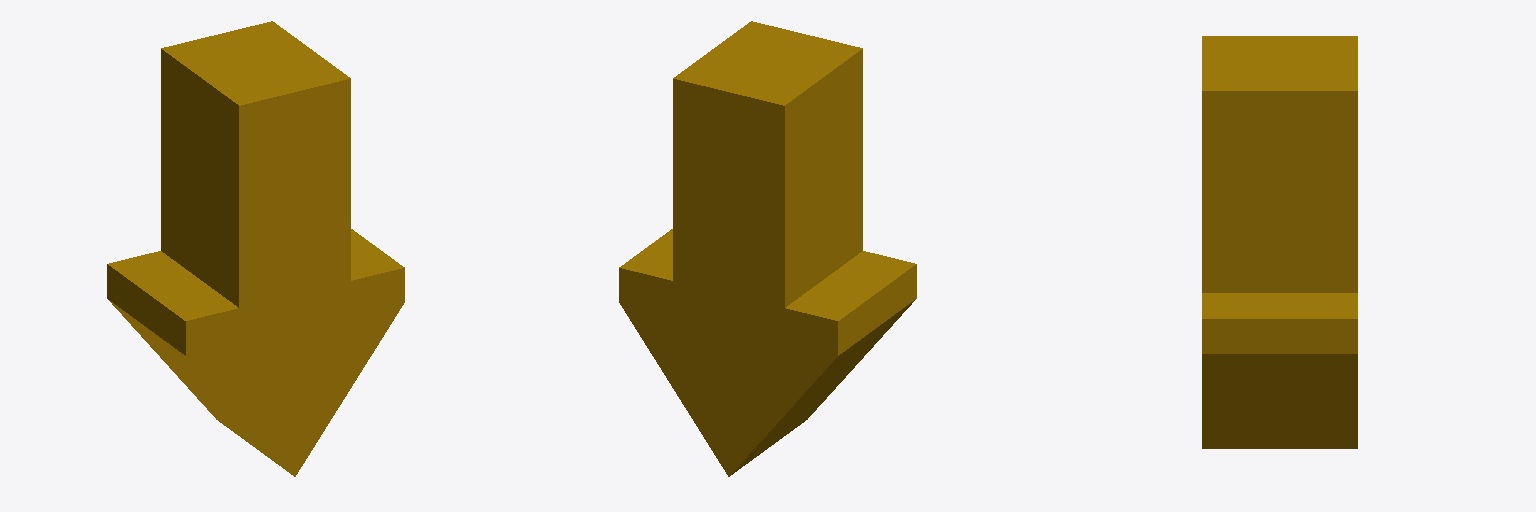
The model's file is TutorialArrow.obj.
3 views of the same model, side by side, from view 1: azimuth 30°, elevation 25°; view 2: azimuth 150°, elevation 25°; view 3: azimuth 270°, elevation 25° (orthographic).
Parts seen in each view (by area): view 1: Box002; view 2: Box002; view 3: Box002.
Part boxes in pixels (x1,y1,x2,y2): Box002: (107, 21, 404, 476); Box002: (619, 21, 916, 476); Box002: (1202, 36, 1357, 448).
Size of the model in its own units: 31.78 by 53.3 by 19.68.